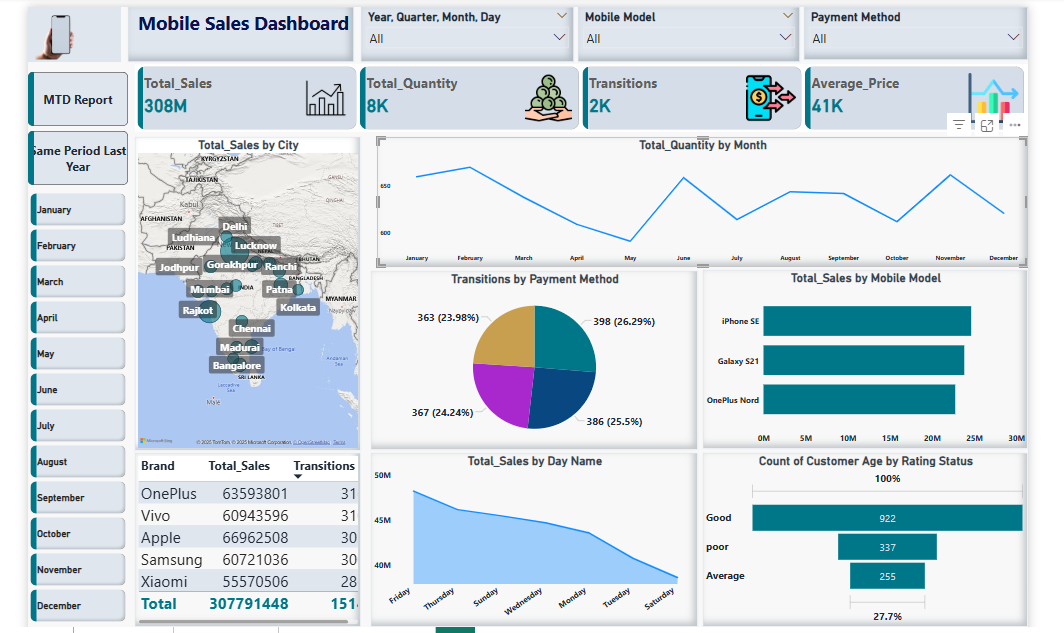

The dashboard page shown, as its layout file describes it:
{"tool":"powerbi","page":{"name":"Dashboard","canvas":[2000,1260],"ordinal":0},"visuals":[{"type":"advancedSlicerVisual","fields":{"Values":["Custom_Calendar.Date.Variation.Date Hierarchy.Month"]},"box":[0,368,200,872],"z":0},{"type":"cardVisual","fields":{"Data":["Sales_Data.Total_Sales","Sales_Data.Total_Quantity","Sales_Data.Transitions","Sales_Data.Average_Price"]},"box":[214,114,1786,136],"z":1000},{"type":"barChart","fields":{"Y":["Sales_Data.Total_Sales"],"Category":["Sales_Data.Mobile Model"]},"box":[1350,526,650,358],"z":2000},{"type":"areaChart","fields":{"Category":["Custom_Calendar.Day Name"],"Y":["Sales_Data.Total_Sales"]},"box":[686,892,654,348],"z":3000},{"type":"pieChart","fields":{"Category":["Sales_Data.Payment Method"],"Y":["Sales_Data.Transitions"]},"box":[686,528,654,358],"z":4000},{"type":"slicer","fields":{"Values":["Sales_Data.Payment Method"]},"box":[1552,0,448,106],"z":5000},{"type":"slicer","fields":{"Values":["Sales_Data.Mobile Model"]},"box":[1100,0,444,110],"z":6000},{"type":"lineChart","fields":{"Category":["Custom_Calendar.Date.Variation.Date Hierarchy.Month"],"Y":["Sales_Data.Total_Quantity"]},"box":[698,260,1302,260],"z":7000},{"type":"funnel","fields":{"Category":["Sales_Data.Rating Status"],"Y":["CountNonNull(Sales_Data.Customer Age)"]},"box":[1350,892,650,348],"z":8000},{"type":"textbox","box":[200,0,452,110],"z":9000},{"type":"slicer","fields":{"Values":["Custom_Calendar.Date.Variation.Date Hierarchy.Year","Custom_Calendar.Date.Variation.Date Hierarchy.Quarter","Custom_Calendar.Date.Variation.Date Hierarchy.Month","Custom_Calendar.Date.Variation.Date Hierarchy.Day"]},"box":[666,0,426,110],"z":10000},{"type":"map","fields":{"Category":["Sales_Data.City"],"Size":["Sales_Data.Total_Sales"]},"box":[214,260,452,628],"z":11000},{"type":"tableEx","fields":{"Values":["Sales_Data.Brand","Sales_Data.Total_Sales","Sales_Data.Transitions"]},"box":[214,892,452,348],"z":12000},{"type":"image","box":[0,0,186,110],"z":13000},{"type":"pageNavigator","box":[0,114,200,214],"z":15000}]}

Visuals, with their boxes on the page's 2000x1260 design canvas (x1, y1, x2, y2). These are canvas units, not pixel positions in the 1064x633 screenshot, which may show the page scaled, cropped or inside an application window:
advancedSlicerVisual - Custom_Calendar.Date.Variation.Date Hierarchy.Month: box(0, 368, 200, 1240)
cardVisual - Sales_Data.Total_Sales x Sales_Data.Total_Quantity: box(214, 114, 2000, 250)
barChart - Sales_Data.Total_Sales x Sales_Data.Mobile Model: box(1350, 526, 2000, 884)
areaChart - Custom_Calendar.Day Name x Sales_Data.Total_Sales: box(686, 892, 1340, 1240)
pieChart - Sales_Data.Payment Method x Sales_Data.Transitions: box(686, 528, 1340, 886)
slicer - Sales_Data.Payment Method: box(1552, 0, 2000, 106)
slicer - Sales_Data.Mobile Model: box(1100, 0, 1544, 110)
lineChart - Custom_Calendar.Date.Variation.Date Hierarchy.Month x Sales_Data.Total_Quantity: box(698, 260, 2000, 520)
funnel - Sales_Data.Rating Status x CountNonNull(Sales_Data.Customer Age): box(1350, 892, 2000, 1240)
textbox: box(200, 0, 652, 110)
slicer - Custom_Calendar.Date.Variation.Date Hierarchy.Year x Custom_Calendar.Date.Variation.Date Hierarchy.Quarter: box(666, 0, 1092, 110)
map - Sales_Data.City x Sales_Data.Total_Sales: box(214, 260, 666, 888)
tableEx - Sales_Data.Brand x Sales_Data.Total_Sales: box(214, 892, 666, 1240)
image: box(0, 0, 186, 110)
pageNavigator: box(0, 114, 200, 328)
